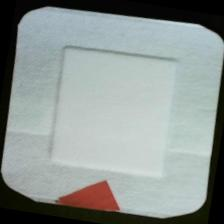Dressing: (1, 1, 224, 224)
Red_T: (53, 170, 134, 220)
